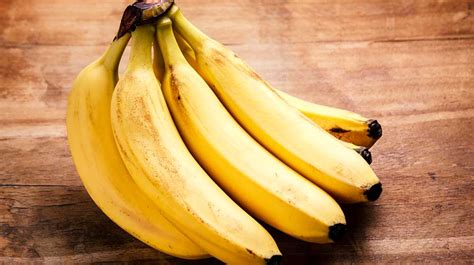banana: (109, 60, 289, 264), (159, 58, 349, 247), (191, 38, 384, 205), (63, 55, 209, 262)
